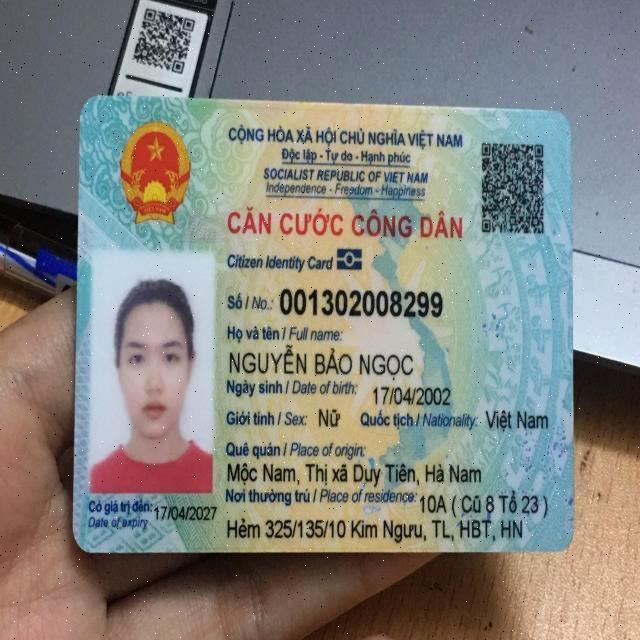current_place: (225, 515, 527, 544), (418, 486, 550, 519)
dob: (368, 377, 453, 409)
expire_date: (151, 499, 218, 523)
gender: (314, 405, 348, 433)
id: (276, 282, 443, 318)
name: (225, 343, 417, 381)
nationality: (481, 400, 549, 434)
origin_place: (225, 456, 485, 488)
qr: (477, 134, 550, 242)
